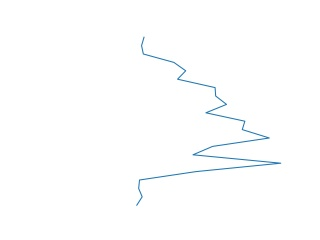floodSwamp: (131, 37, 284, 207)
